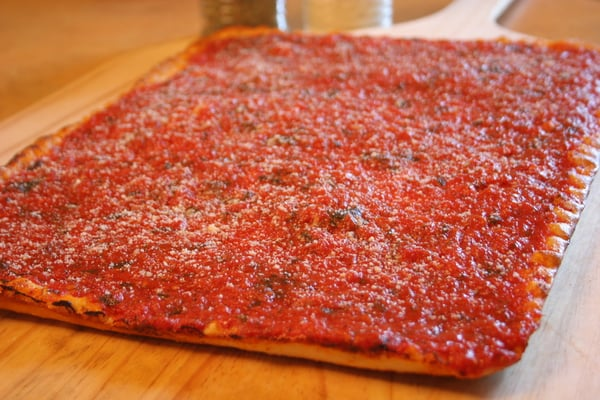sandwich: (1, 21, 598, 378)
